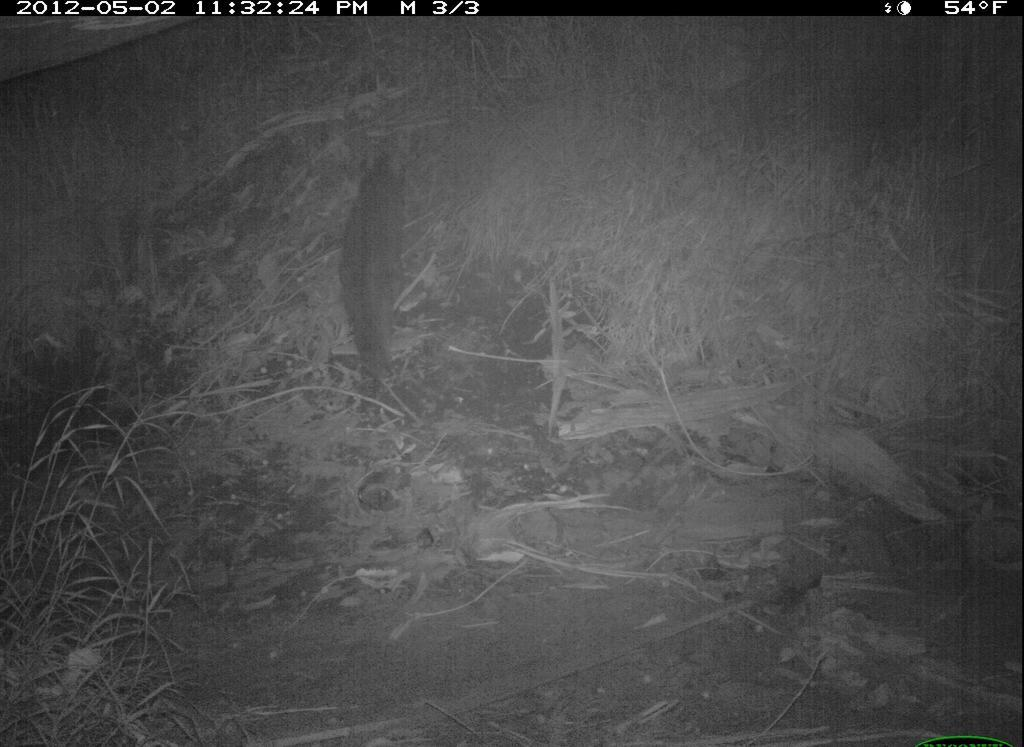cat: (333, 135, 423, 393)
